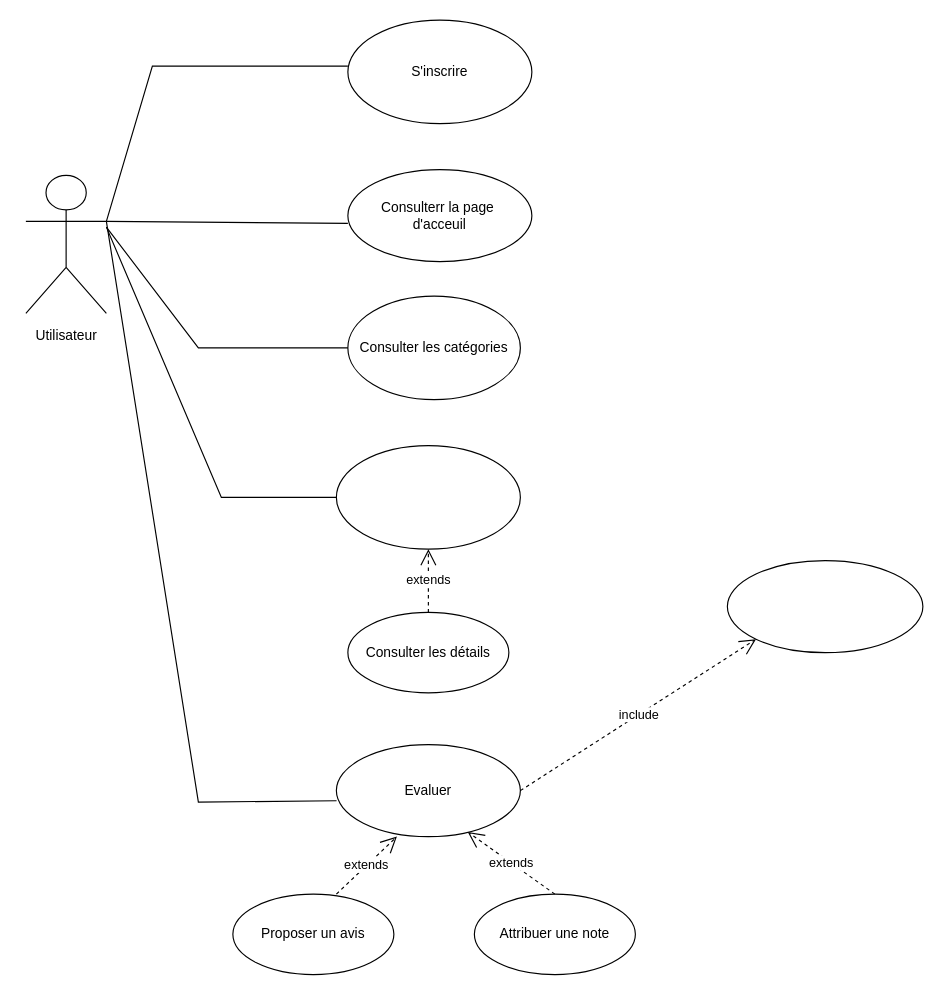
This 943x995 diagram has some shape labels left out. The shapes that lost their labels are listed below. From the top down, each one's box as (x1, y1, x2, y2) in pixels, then its label:
(335, 444, 520, 549): Rechercher les entreprises
(726, 559, 923, 653): Authentification
